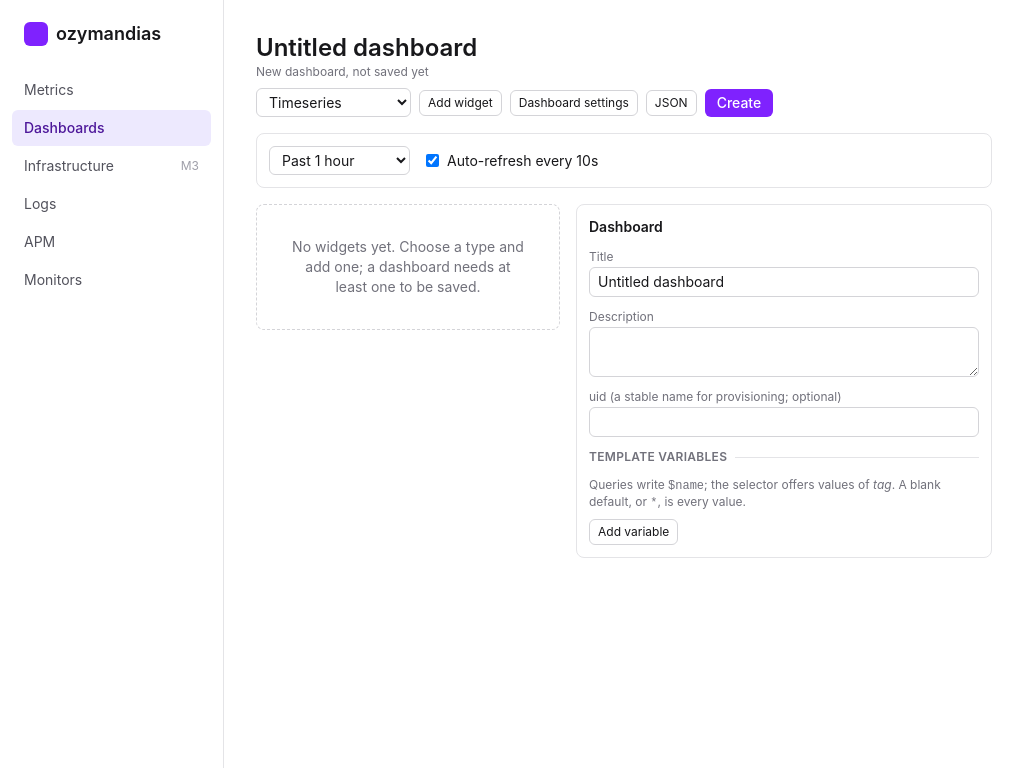
Test: saving › reports a create whose answer it cannot read as saved, and stops a second create
This screenshot has width=1024, height=768.
Click the button "Create" at (739, 102), box x1=705 y1=88 x2=773 y2=116
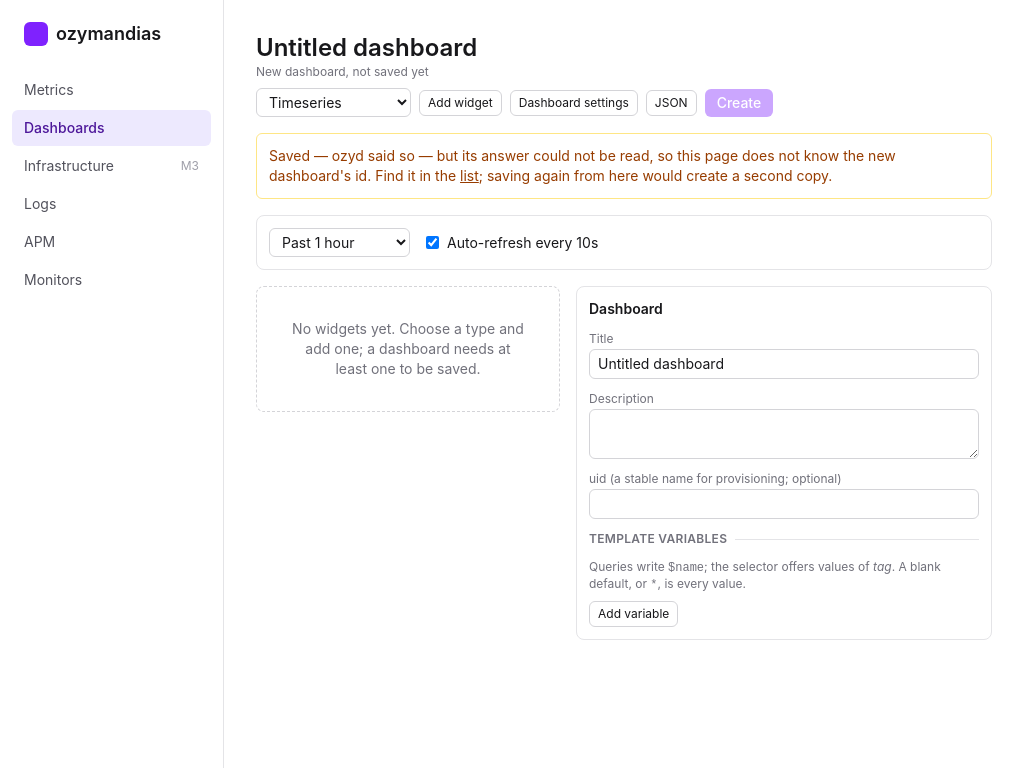
Now the text "Saved — ozyd said so — but its answer could not be read" is shown, box x1=269 y1=147 x2=896 y2=184
Now the button "Create" is disabled, box x1=705 y1=88 x2=773 y2=116
